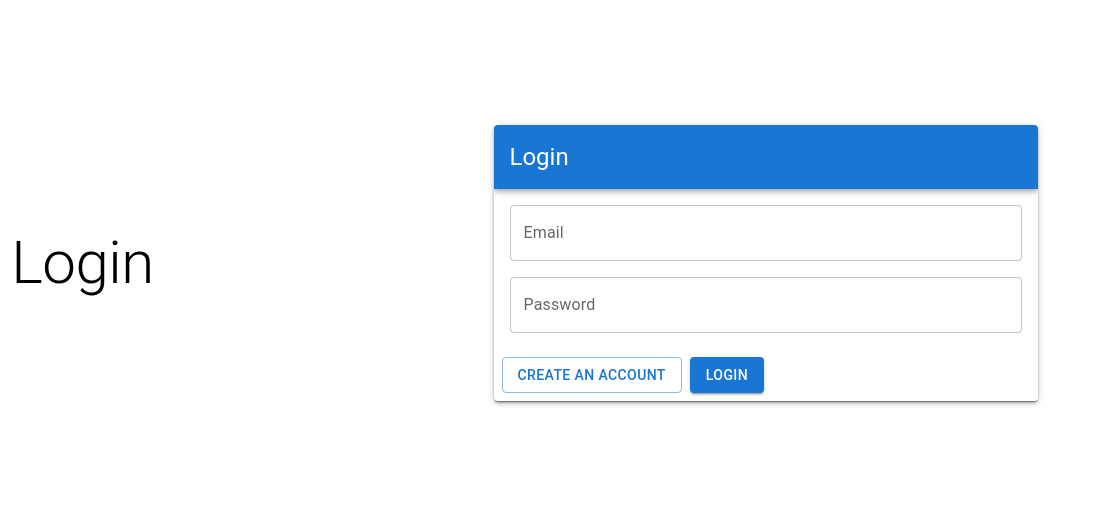
Test: AuthPage Tests › should switch to signup form
Click the button "Create An Account": click(592, 375) [502, 357, 682, 393]
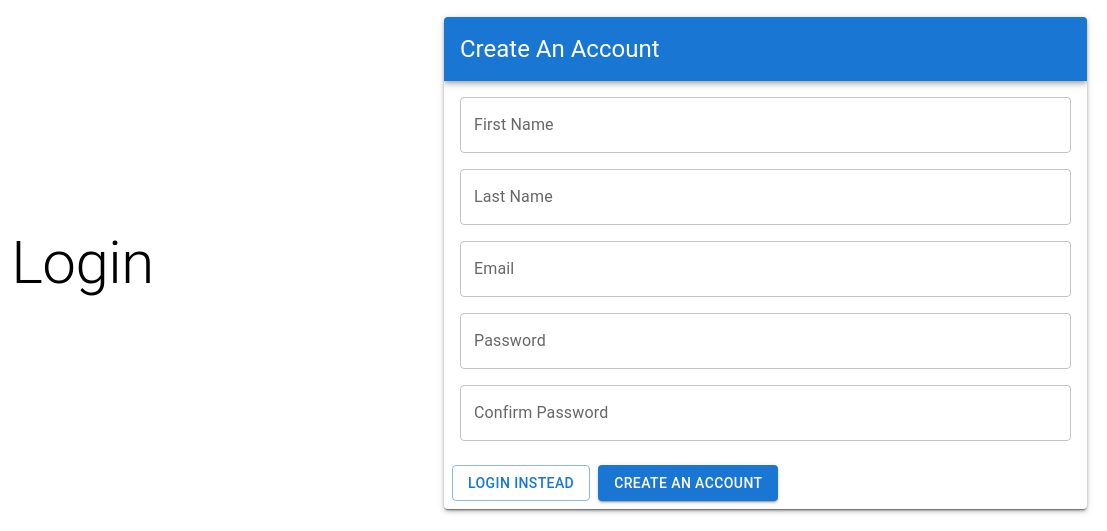
Result: the heading "Create An Account" is shown at [460, 35, 660, 63]
